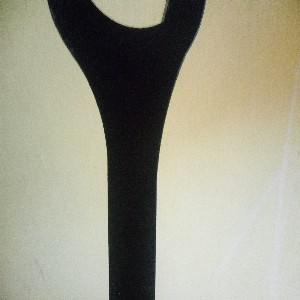spanner: (46, 1, 208, 300)
